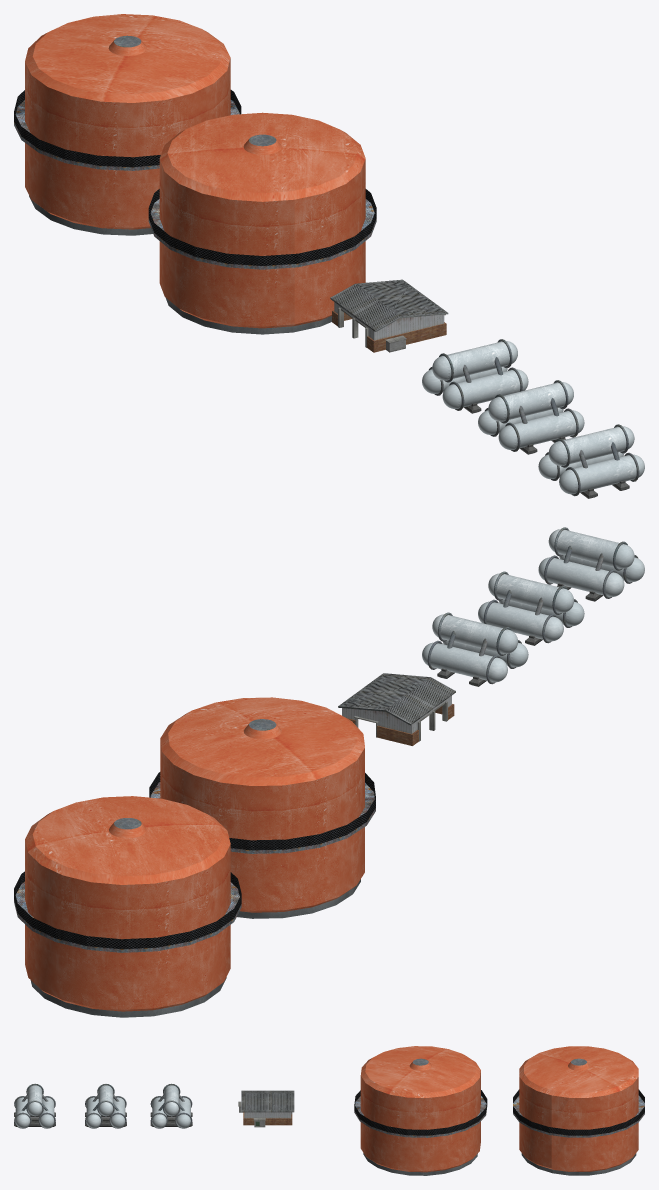
Rendered from satf.FBX.
3 renders of one model, top to bottom at view 1: azimuth 30°, elevation 25°; view 2: azimuth 150°, elevation 25°; view 3: azimuth 270°, elevation 25°, orthographic. The views are drawn at different scales.
Visible parts, largest first — view 1: RT_Port_St01_Zone_4x4_Docks_H_01_RT_Industrial_01_Tank_Large (×2), RT_Port_St01_Zone_4x4_Docks_H_01_RT_Industrial_01_Tank_Tri_0 (×3), RT_Port_St01_Zone_4x4_Docks_H_01_WH_Barn_B_01_WareHouseAB_03; view 2: RT_Port_St01_Zone_4x4_Docks_H_01_RT_Industrial_01_Tank_Large (×2), RT_Port_St01_Zone_4x4_Docks_H_01_RT_Industrial_01_Tank_Tri_0 (×3), RT_Port_St01_Zone_4x4_Docks_H_01_WH_Barn_B_01_WareHouseAB_03; view 3: RT_Port_St01_Zone_4x4_Docks_H_01_RT_Industrial_01_Tank_Large (×2), RT_Port_St01_Zone_4x4_Docks_H_01_RT_Industrial_01_Tank_Tri_0 (×3), RT_Port_St01_Zone_4x4_Docks_H_01_WH_Barn_B_01_WareHouseAB_03.
Part boxes in pixels (bbox=[...]): RT_Port_St01_Zone_4x4_Docks_H_01_RT_Industrial_01_Tank_Large (×2): bbox=[14, 14, 376, 334]; RT_Port_St01_Zone_4x4_Docks_H_01_RT_Industrial_01_Tank_Tri_0 (×3): bbox=[422, 339, 644, 498]; RT_Port_St01_Zone_4x4_Docks_H_01_WH_Barn_B_01_WareHouseAB_03: bbox=[330, 279, 448, 352]; RT_Port_St01_Zone_4x4_Docks_H_01_RT_Industrial_01_Tank_Large (×2): bbox=[14, 697, 375, 1017]; RT_Port_St01_Zone_4x4_Docks_H_01_RT_Industrial_01_Tank_Tri_0 (×3): bbox=[422, 527, 644, 686]; RT_Port_St01_Zone_4x4_Docks_H_01_WH_Barn_B_01_WareHouseAB_03: bbox=[338, 673, 455, 745]; RT_Port_St01_Zone_4x4_Docks_H_01_RT_Industrial_01_Tank_Large (×2): bbox=[354, 1046, 644, 1175]; RT_Port_St01_Zone_4x4_Docks_H_01_RT_Industrial_01_Tank_Tri_0 (×3): bbox=[14, 1083, 192, 1128]; RT_Port_St01_Zone_4x4_Docks_H_01_WH_Barn_B_01_WareHouseAB_03: bbox=[238, 1090, 294, 1127].
Size of the model in its own units: 36.29 by 26.93 by 172.
